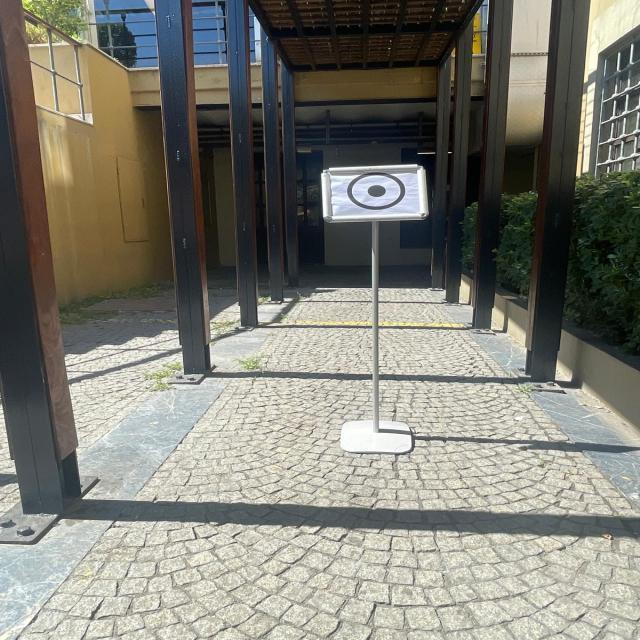Target: (299, 154, 449, 228)
inner: (362, 180, 391, 206)
